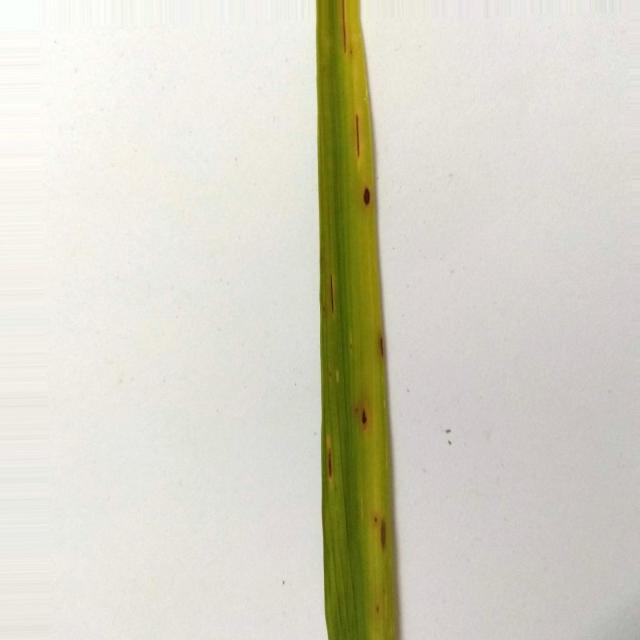Brown_Spot: (322, 446, 334, 478), (340, 0, 346, 51), (329, 274, 334, 312), (380, 520, 386, 549), (356, 115, 360, 156), (362, 188, 371, 205), (379, 335, 384, 356), (361, 409, 368, 424), (335, 458, 341, 475), (374, 512, 379, 524), (378, 608, 384, 615)
